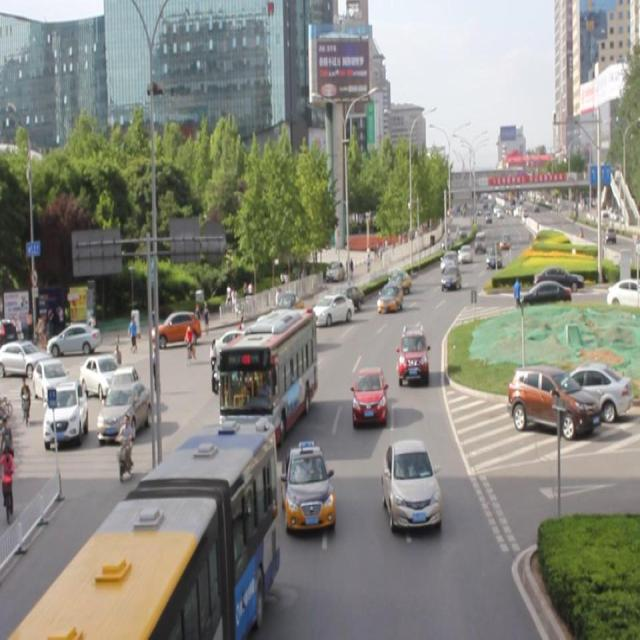car: (381, 438, 440, 530), (282, 442, 335, 532), (352, 364, 387, 424), (211, 329, 261, 370), (398, 326, 430, 386), (280, 310, 314, 360), (211, 345, 245, 395), (255, 335, 294, 376), (313, 292, 353, 327), (248, 315, 278, 358), (331, 284, 363, 310), (376, 281, 402, 312), (384, 269, 410, 294), (438, 262, 461, 290)
van: (10, 419, 276, 640), (217, 308, 316, 437)
